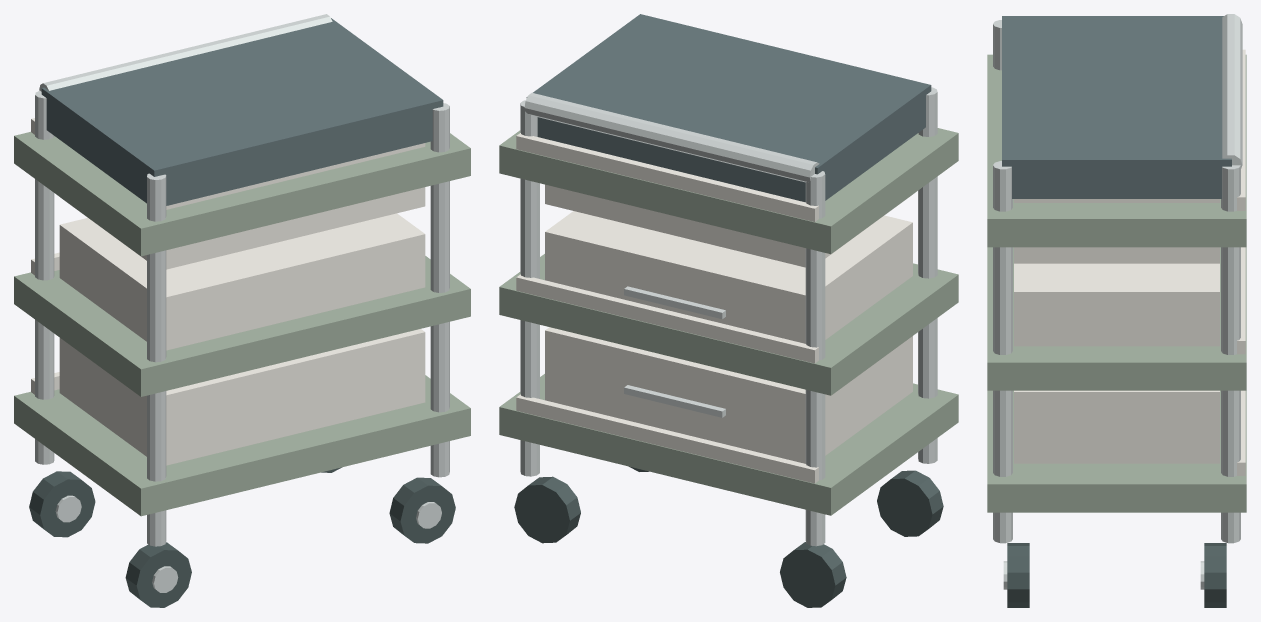
Rendered from s7-e0e1-st03-mobile-tool-cart.glb.
The picture shows the model from 3 angles, left to right: view 1: azimuth 30°, elevation 25°; view 2: azimuth 150°, elevation 25°; view 3: azimuth 270°, elevation 25°; orthographic projection. The views are drawn at different scales.
Parts seen in each view (by area): view 1: rubberized-tool-mat-026, drawer-front-022, drawer-front-020, mobile-cart-shelf-000, mobile-cart-shelf-002, mobile-cart-shelf-004, drawer-front-024, caster-trolley-post-007, caster-trolley-post-009, caster-trolley-post-006, cart-handle-018, wheel-016 (+2 smaller); view 2: rubberized-tool-mat-026, drawer-front-022, drawer-front-020, mobile-cart-shelf-000, mobile-cart-shelf-002, mobile-cart-shelf-004, cart-handle-018, mobile-cart-lip-001, mobile-cart-lip-003, mobile-cart-lip-005, drawer-front-024, caster-trolley-post-006 (+7 smaller); view 3: rubberized-tool-mat-026, drawer-front-022, drawer-front-020, mobile-cart-shelf-004, mobile-cart-shelf-000, mobile-cart-shelf-002, caster-trolley-post-009, caster-trolley-post-008, drawer-front-024, cart-handle-018, wheel-014, wheel-016 (+4 smaller).
Boxes of the visible parts, bbox=[...] form: rubberized-tool-mat-026: bbox=[41, 18, 443, 205]; drawer-front-022: bbox=[59, 213, 425, 350]; drawer-front-020: bbox=[59, 329, 425, 465]; mobile-cart-shelf-000: bbox=[14, 375, 470, 516]; mobile-cart-shelf-002: bbox=[14, 256, 470, 396]; mobile-cart-shelf-004: bbox=[14, 131, 470, 256]; drawer-front-024: bbox=[60, 143, 425, 269]; caster-trolley-post-007: bbox=[147, 173, 166, 546]; caster-trolley-post-009: bbox=[430, 103, 449, 477]; caster-trolley-post-006: bbox=[35, 90, 54, 464]; cart-handle-018: bbox=[39, 14, 332, 91]; wheel-016: bbox=[389, 477, 455, 543]; rubberized-tool-mat-026: bbox=[526, 14, 931, 202]; drawer-front-022: bbox=[545, 211, 912, 343]; drawer-front-020: bbox=[545, 327, 912, 463]; mobile-cart-shelf-000: bbox=[499, 374, 958, 515]; mobile-cart-shelf-002: bbox=[499, 254, 958, 395]; mobile-cart-shelf-004: bbox=[499, 128, 958, 254]; cart-handle-018: bbox=[524, 93, 819, 182]; mobile-cart-lip-001: bbox=[516, 394, 818, 483]; mobile-cart-lip-003: bbox=[516, 274, 818, 363]; mobile-cart-lip-005: bbox=[516, 133, 818, 221]; drawer-front-024: bbox=[545, 184, 912, 267]; caster-trolley-post-006: bbox=[805, 171, 825, 546]; rubberized-tool-mat-026: bbox=[1002, 16, 1231, 198]; drawer-front-022: bbox=[1014, 263, 1219, 346]; drawer-front-020: bbox=[1014, 390, 1219, 463]; mobile-cart-shelf-004: bbox=[987, 54, 1246, 247]; mobile-cart-shelf-000: bbox=[987, 390, 1246, 512]; mobile-cart-shelf-002: bbox=[987, 247, 1246, 390]; caster-trolley-post-009: bbox=[993, 161, 1012, 543]; caster-trolley-post-008: bbox=[1221, 165, 1240, 543]; drawer-front-024: bbox=[1014, 199, 1219, 263]; cart-handle-018: bbox=[1222, 14, 1242, 168]; wheel-014: bbox=[1204, 543, 1226, 607]; wheel-016: bbox=[1007, 543, 1029, 607].
Bounding box in the file's own units: 0.81 × 1.05 × 0.54.
